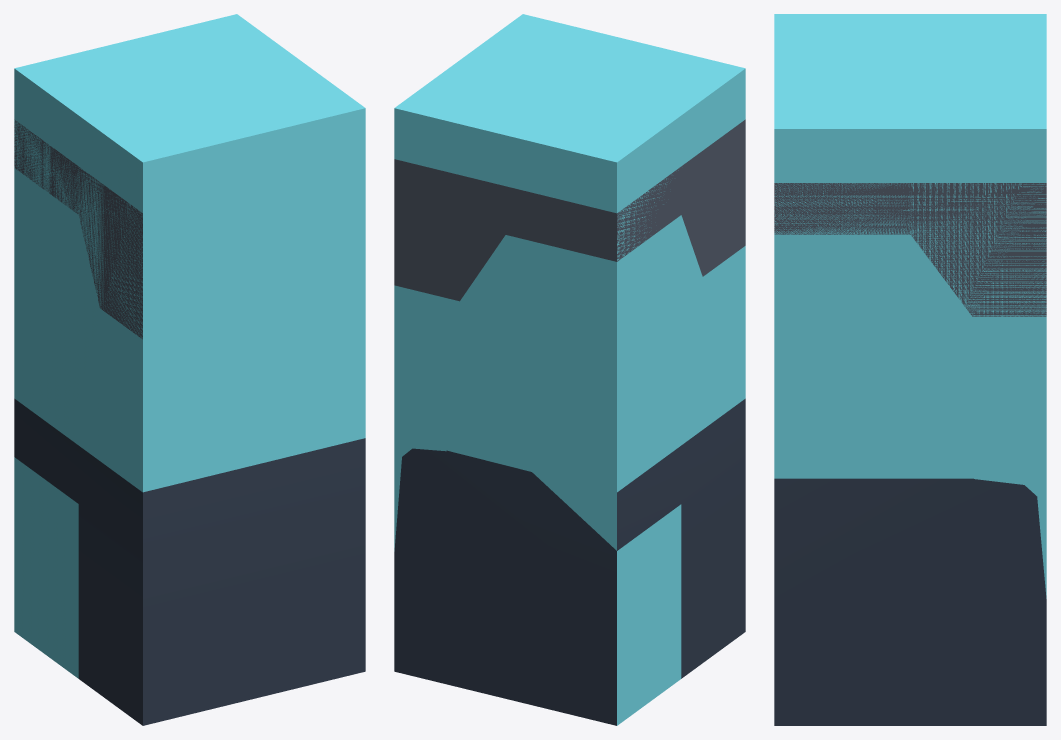
File: PBOX1_FLA_02.FBX
The picture shows the model from 3 angles, left to right: view 1: azimuth 30°, elevation 25°; view 2: azimuth 150°, elevation 25°; view 3: azimuth 270°, elevation 25°; orthographic projection. The views are drawn at different scales.
Parts seen in each view (by area): view 1: PBOX1_FlA_02, PBOX1_SUB_TAB_ROCK_01, PBOX1_SUB_FLA_006; view 2: PBOX1_FlA_02, PBOX1_SUB_TAB_ROCK_01, PBOX1_SUB_FLA_006; view 3: PBOX1_FlA_02, PBOX1_SUB_TAB_ROCK_01, PBOX1_SUB_FLA_006.
Part boxes in pixels (box(x1,y1,x2,y2)): PBOX1_FlA_02: box(14, 14, 365, 678); PBOX1_SUB_TAB_ROCK_01: box(14, 398, 365, 725); PBOX1_SUB_FLA_006: box(14, 119, 142, 339); PBOX1_FlA_02: box(394, 14, 745, 725); PBOX1_SUB_TAB_ROCK_01: box(394, 398, 745, 725); PBOX1_SUB_FLA_006: box(394, 119, 745, 301); PBOX1_FlA_02: box(774, 14, 1046, 598); PBOX1_SUB_TAB_ROCK_01: box(774, 478, 1046, 725); PBOX1_SUB_FLA_006: box(774, 183, 1046, 316).
Bounding box in the file's own units: 6 × 14.5 × 6.
